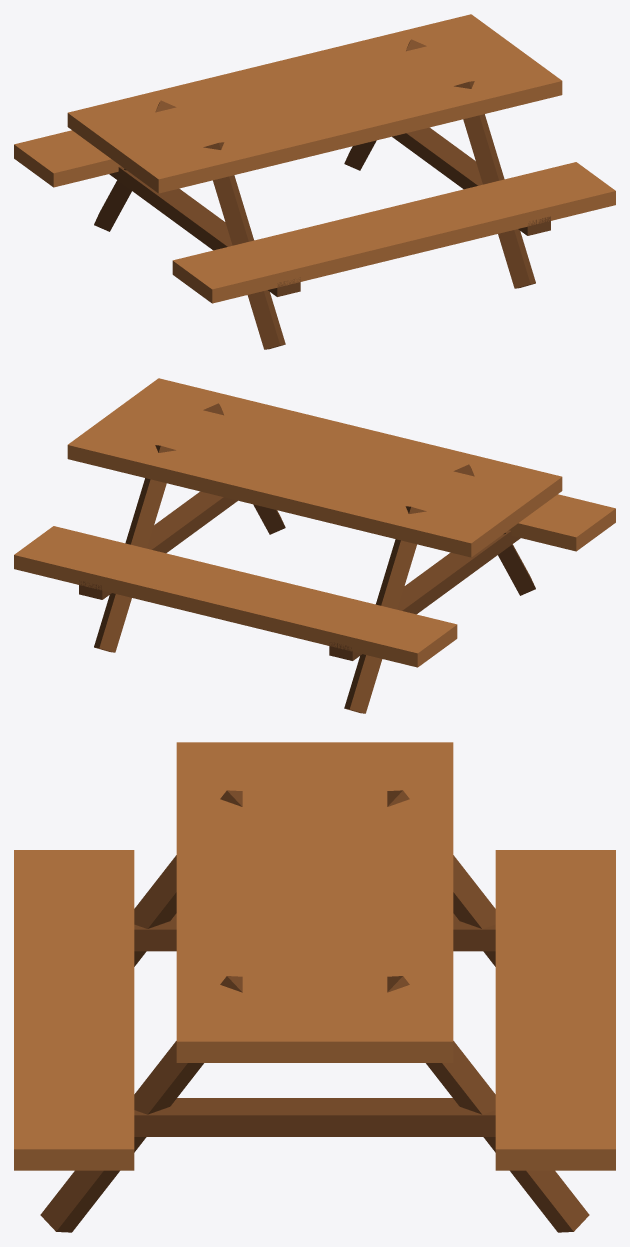
File: picnic_table.fbx
3 renders of one model, top to bottom at view 1: azimuth 30°, elevation 25°; view 2: azimuth 150°, elevation 25°; view 3: azimuth 270°, elevation 25°, orthographic. The views are drawn at different scales.
Parts seen in each view (by area): view 1: picnic_table; view 2: picnic_table; view 3: picnic_table.
Boxes of the visible parts, bbox=[...] form: picnic_table: bbox=[14, 14, 615, 349]; picnic_table: bbox=[14, 378, 615, 713]; picnic_table: bbox=[14, 742, 615, 1232].
Bounding box in the file's own units: 2 × 0.8 × 1.7.
